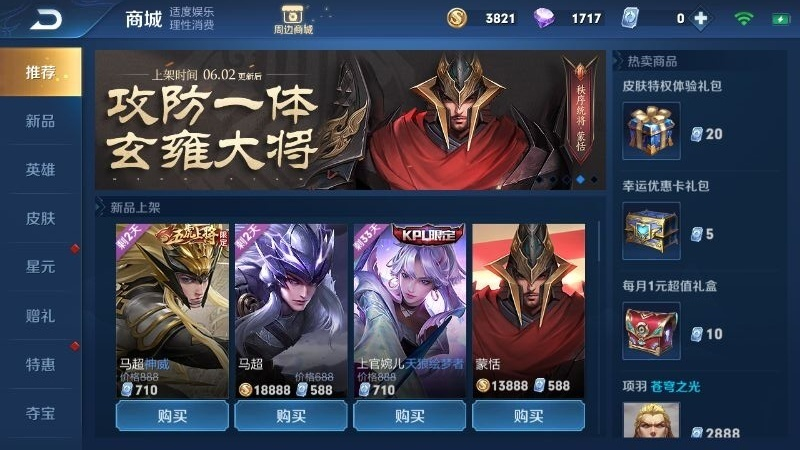return: (15, 4, 77, 36)
tag: (473, 399, 582, 431), (354, 399, 461, 429), (236, 401, 347, 429), (122, 401, 224, 431), (8, 341, 68, 382), (15, 391, 72, 432), (13, 98, 74, 135), (16, 196, 71, 237), (16, 291, 70, 332), (13, 148, 72, 183), (19, 243, 66, 280)
